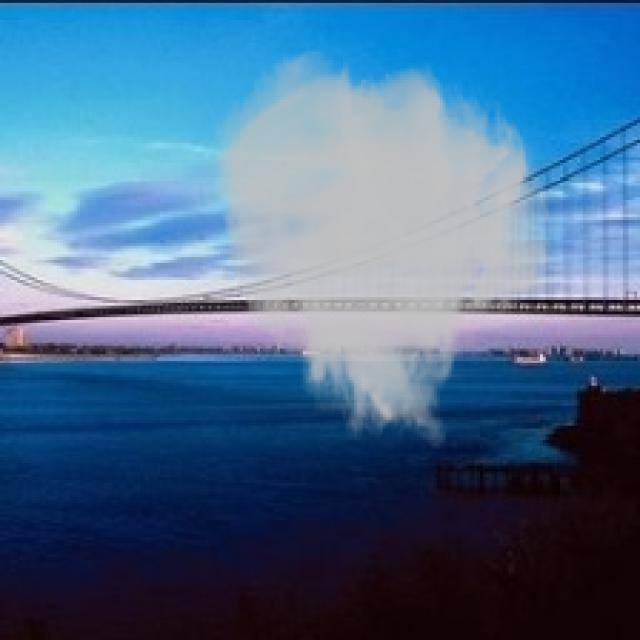Smoke: (208, 46, 554, 452)
